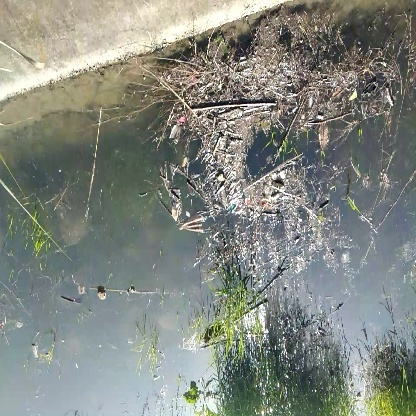branch: (186, 94, 279, 120)
